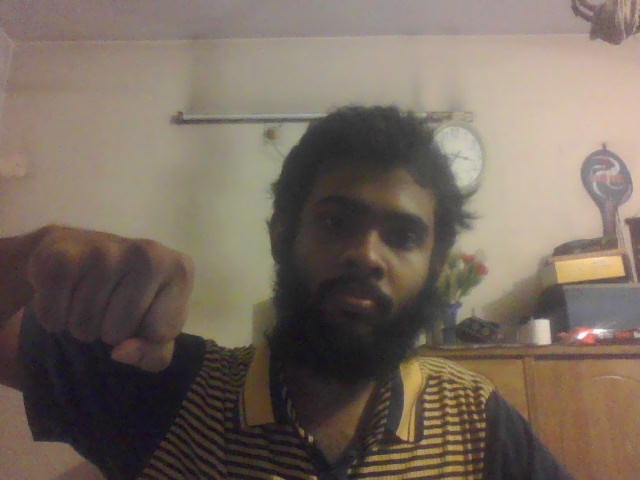Yes: (29, 222, 205, 377)
